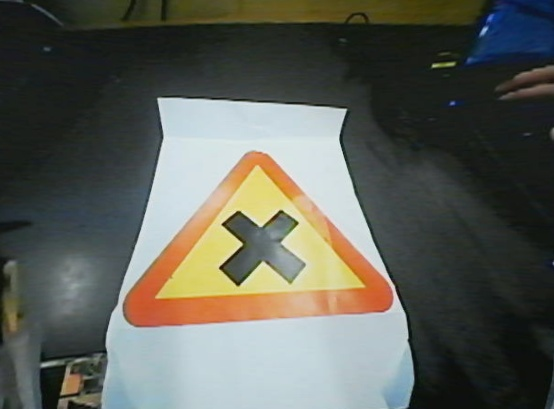junction: (81, 123, 414, 336)
